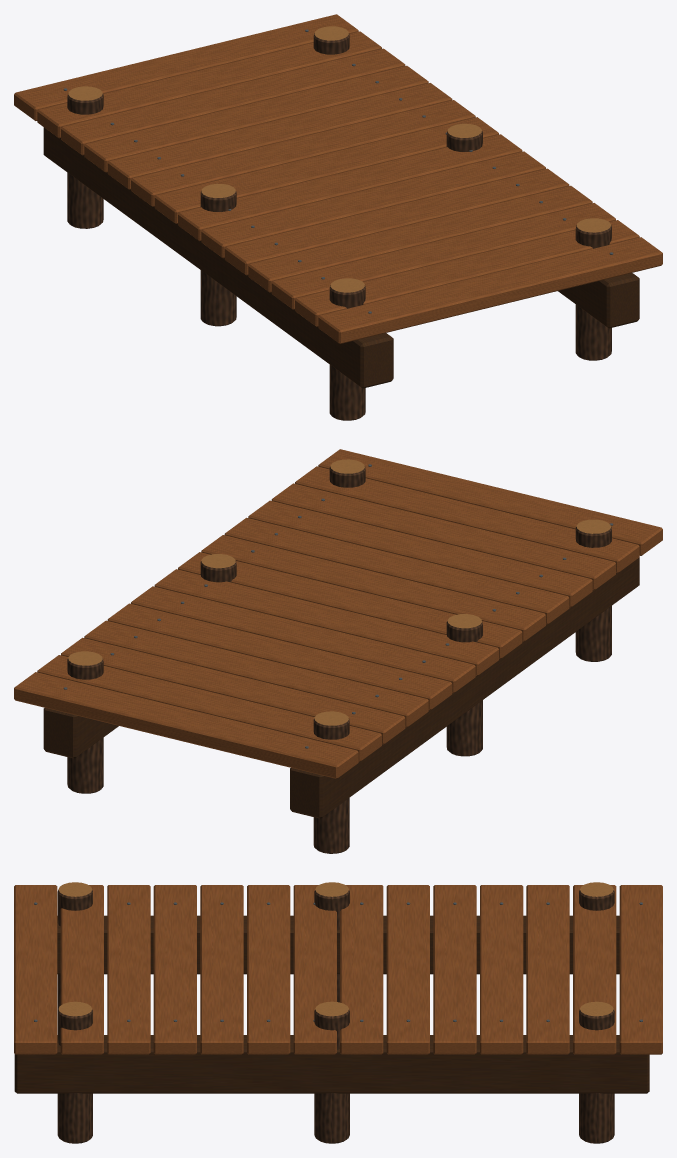
The model's file is pier.glb.
3 renders of one model, top to bottom at view 1: azimuth 30°, elevation 25°; view 2: azimuth 150°, elevation 25°; view 3: azimuth 270°, elevation 25°, orthographic.
Visible parts, largest first — view 1: pier; view 2: pier; view 3: pier.
Part boxes in pixels (left/top/right/bottom): pier: left=14, top=14, right=662, bottom=420; pier: left=14, top=449, right=662, bottom=853; pier: left=14, top=882, right=662, bottom=1143.
Size of the model in its own units: 1.4 by 0.53 by 2.44.
Materials: 5 (4 with a texture image).
